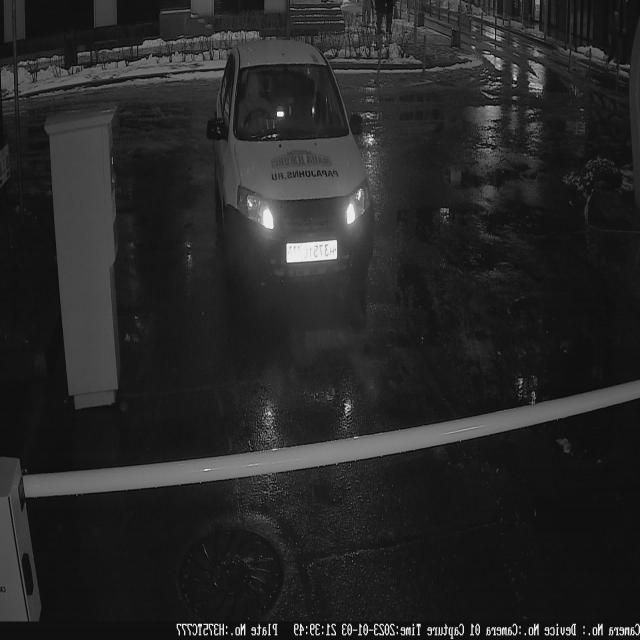car-plate-numbers: (286, 236, 340, 268)
